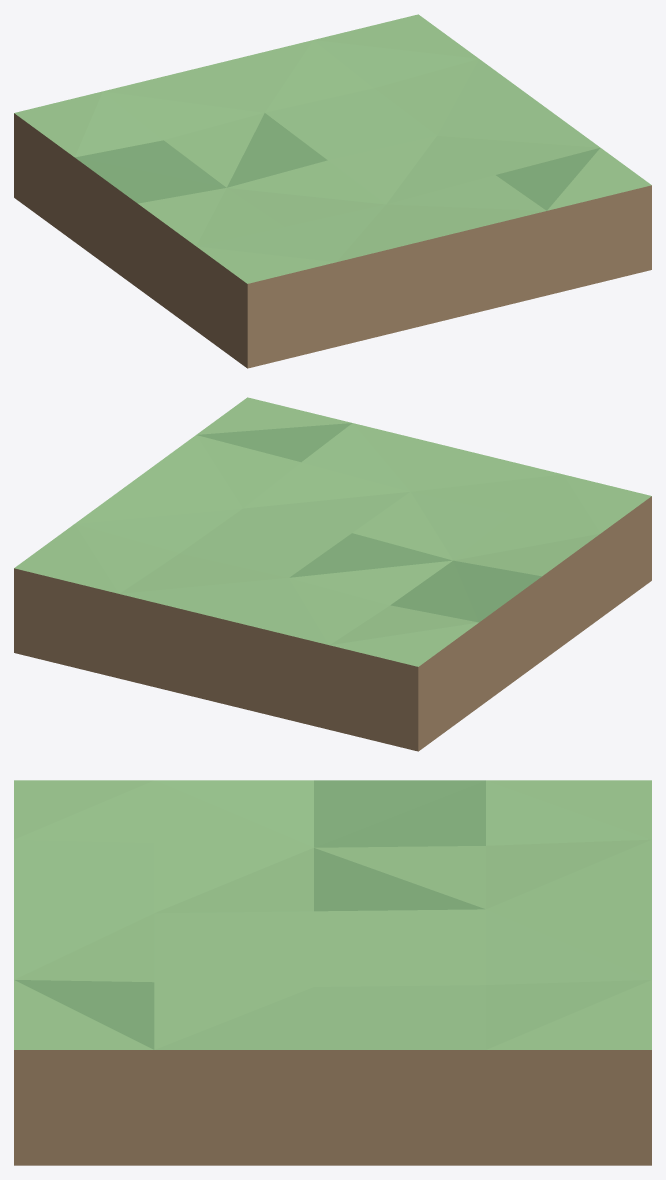
File: tile_grass.glb
3 views of the same model, one above another, from view 1: azimuth 30°, elevation 25°; view 2: azimuth 150°, elevation 25°; view 3: azimuth 270°, elevation 25° (orthographic). The views are drawn at different scales.
Visible parts, largest first — view 1: tile_grass; view 2: tile_grass; view 3: tile_grass.
Part boxes in pixels (box(x1,y1,x2,y2)): tile_grass: box(14, 14, 651, 368); tile_grass: box(14, 397, 651, 751); tile_grass: box(14, 780, 651, 1165).
Bounding box in the file's own units: 1 × 0.2 × 1.
